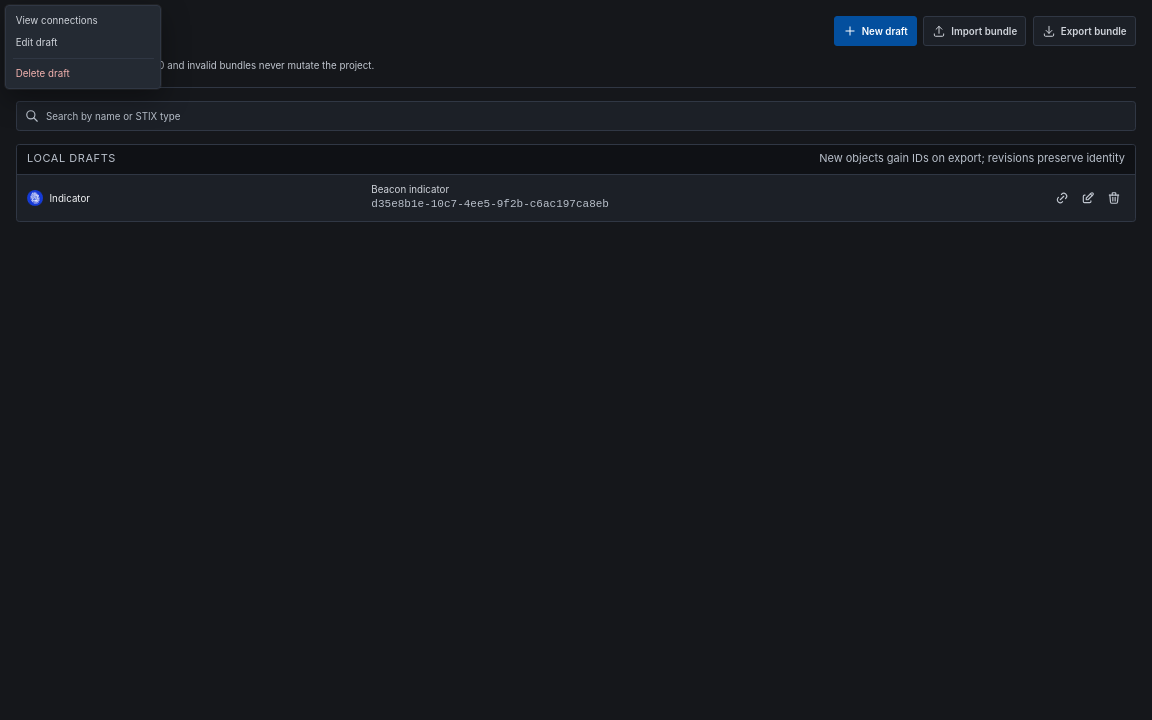
it: IntelligenceWorkspace › offers draft quick actions from the workspace context menu
This screenshot has width=1152, height=720.
Expected: the list item "Beacon indicator" is shown, top-left (371, 184), bottom-right (449, 195)
Expected: the menu item "View connections" is shown, top-left (16, 15), bottom-right (98, 26)
Step 1. Click the menu item "Delete draft" → (43, 73), box top-left (16, 68), bottom-right (70, 79)
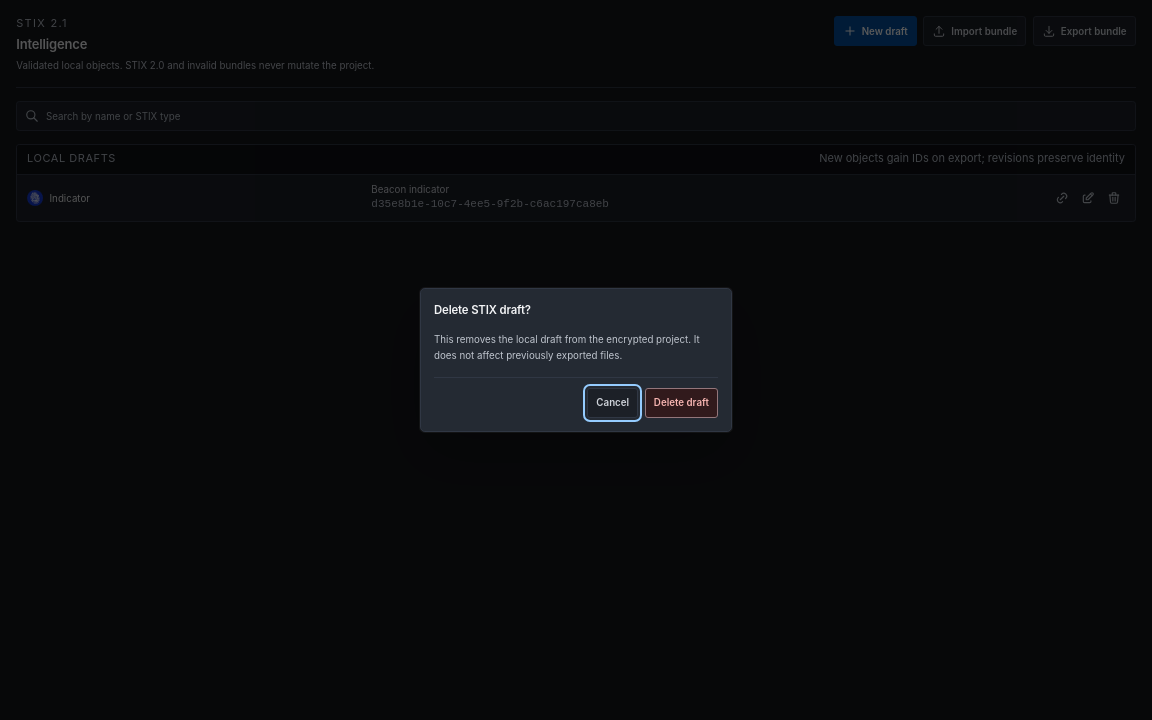
Now the dialog "Delete STIX draft?" is shown, box top-left (420, 288), bottom-right (732, 432)
